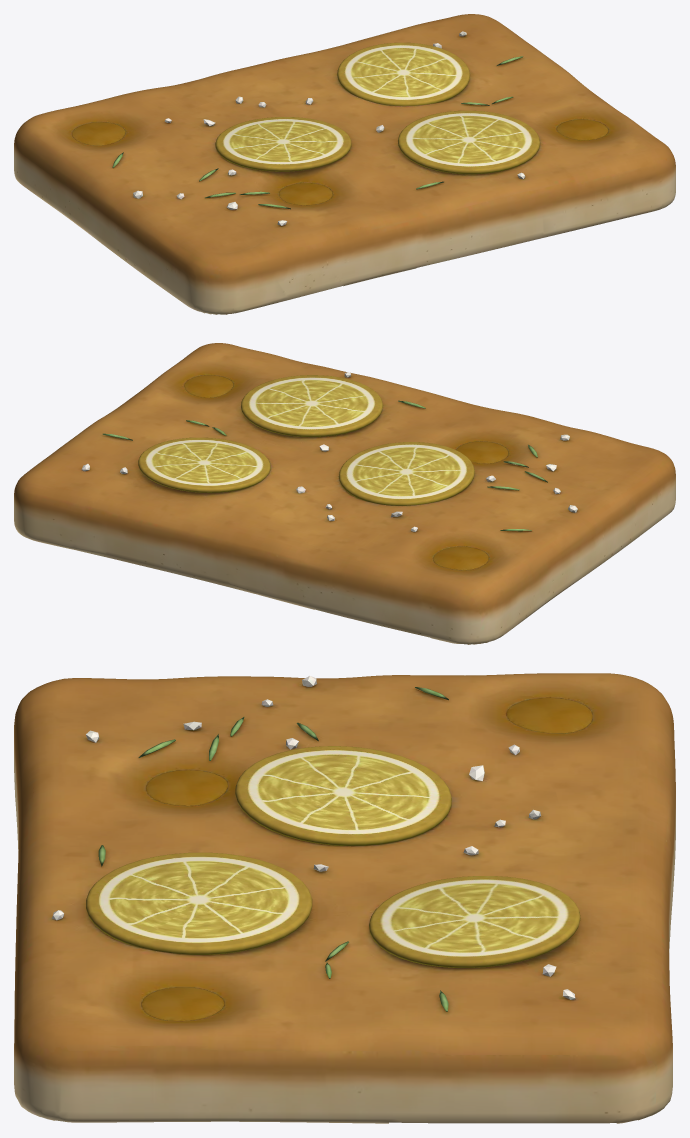
Rendered from focaccia--lemon-slice.glb.
3 views of the same model, one above another, from view 1: azimuth 30°, elevation 25°; view 2: azimuth 150°, elevation 25°; view 3: azimuth 270°, elevation 25° (orthographic). The views are drawn at different scales.
Parts seen in each view (by area): view 1: focaccia_lemon-slice; view 2: focaccia_lemon-slice; view 3: focaccia_lemon-slice.
Boxes of the visible parts, x1,y1,x2,y2 form: focaccia_lemon-slice: [14, 14, 675, 314]; focaccia_lemon-slice: [14, 343, 675, 644]; focaccia_lemon-slice: [14, 673, 675, 1123].
Size of the model in its own units: 1.01 by 0.1291 by 0.7441.
Materials: 1 (1 with a texture image).
